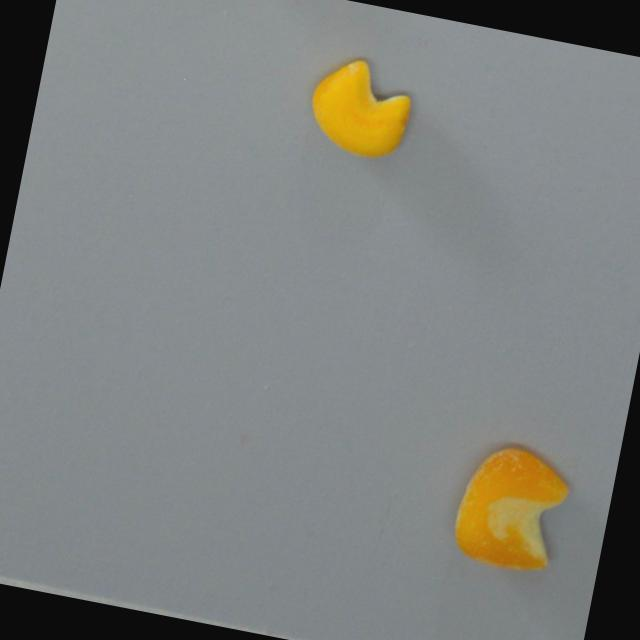no_canjicado: (300, 49, 422, 166)
pelicula: (447, 437, 576, 580)
